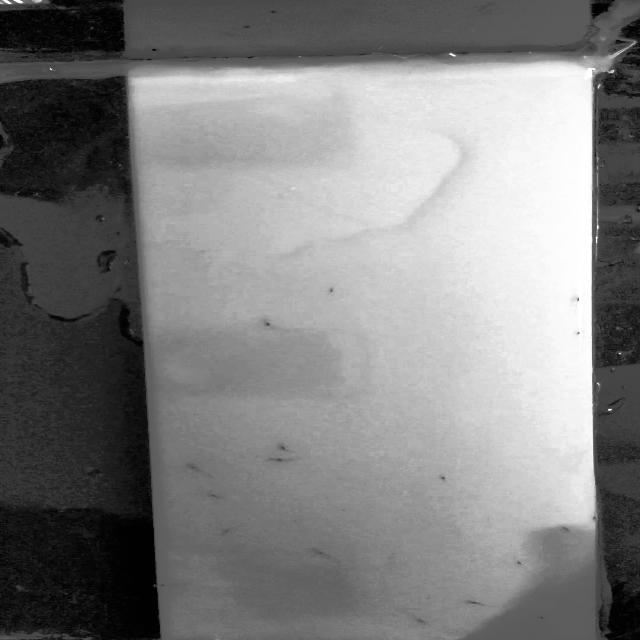shrimp: (404, 612, 434, 630), (202, 488, 228, 506), (508, 557, 534, 571), (460, 597, 490, 609), (429, 471, 452, 486), (181, 462, 204, 474), (308, 548, 329, 561), (526, 614, 553, 624), (154, 580, 180, 590), (216, 526, 238, 536), (257, 319, 276, 330), (272, 454, 290, 465), (274, 444, 291, 454)
